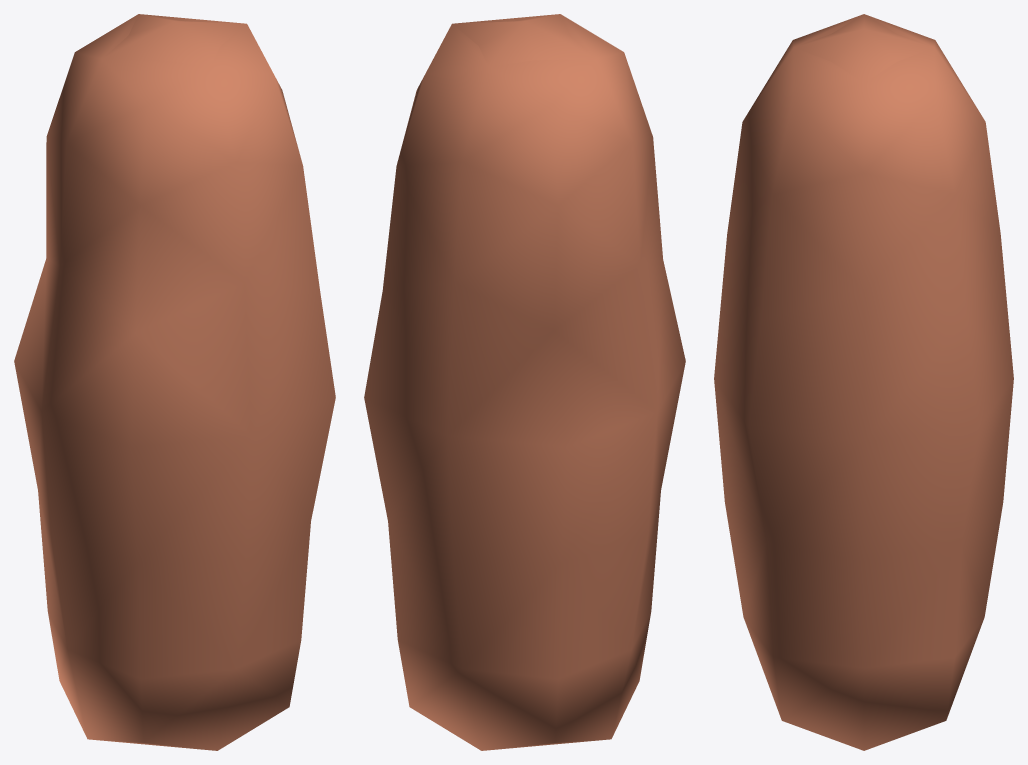
The model's file is upper_arm.dae.
The picture shows the model from 3 angles, left to right: view 1: azimuth 30°, elevation 25°; view 2: azimuth 150°, elevation 25°; view 3: azimuth 270°, elevation 25°; orthographic projection. The views are drawn at different scales.
Parts seen in each view (by area): view 1: Plane; view 2: Plane; view 3: Plane.
Part boxes in pixels (x1,y1,x2,y2): Plane: (14,14,335,750); Plane: (364,14,685,750); Plane: (714,14,1013,750).
Size of the model in its own units: 0.401 by 0.401 by 1.03.
